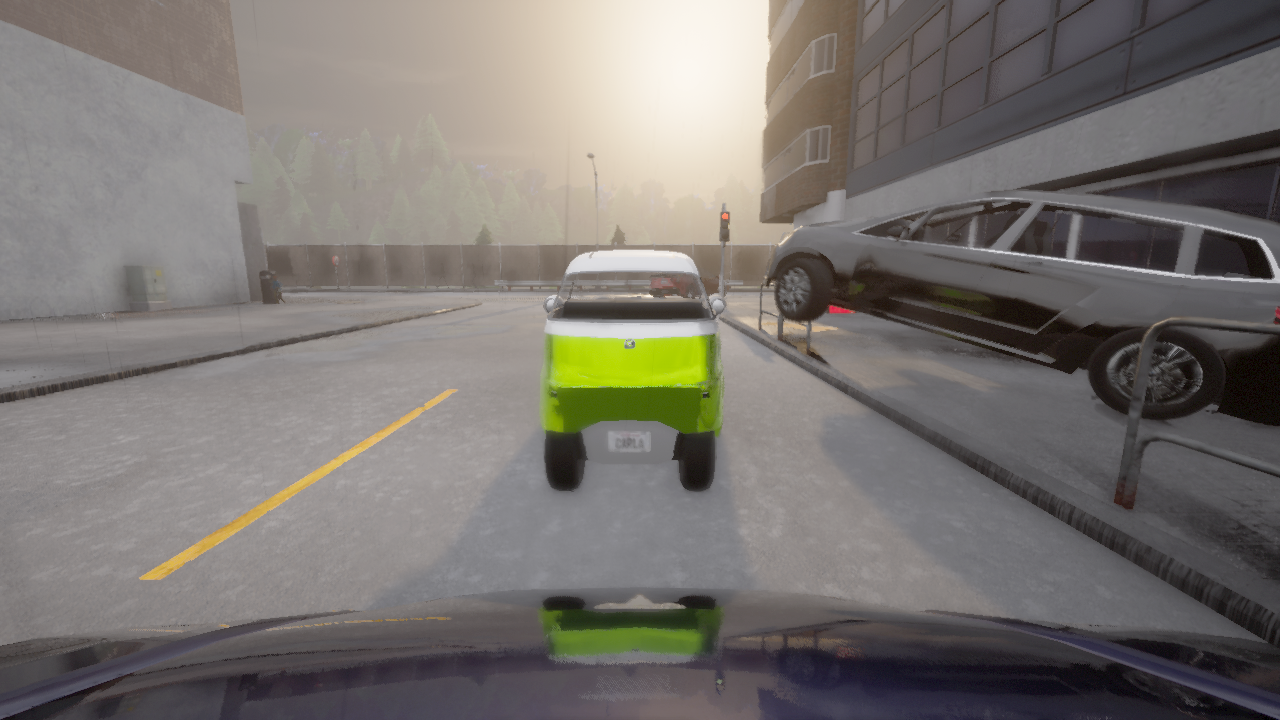cyclist: (0, 588, 1279, 719), (763, 190, 1279, 426), (540, 249, 725, 491), (696, 266, 725, 297)
pedestrian: (271, 274, 286, 305), (436, 262, 449, 289), (471, 262, 478, 289)
